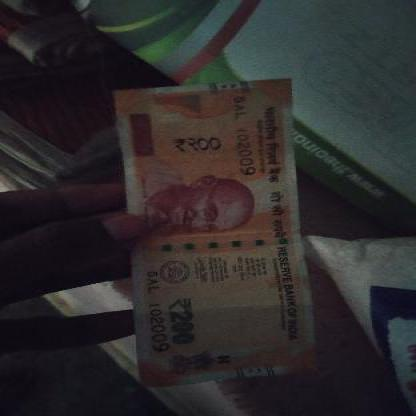New200Front: (121, 87, 311, 383)
